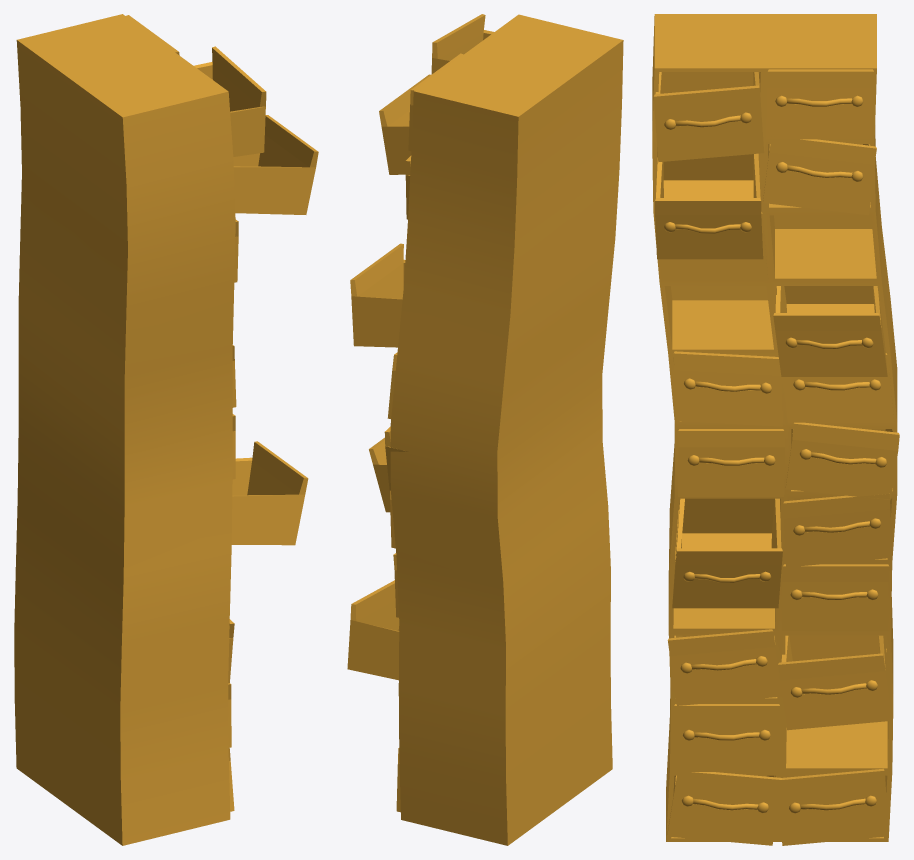
File: mueble3.fbx
3 renders of one model, left to right at view 1: azimuth 30°, elevation 25°; view 2: azimuth 150°, elevation 25°; view 3: azimuth 270°, elevation 25°, orthographic. The views are drawn at different scales.
Parts seen in each view (by area): view 1: Cube, Cube.005, Cube.010, Cube.011; view 2: Cube, Cube.019, Cube.014, Cube.010, Cube.011, Cube.005; view 3: Cube, Cube.005, Cube.010, Cube.014, Cube.019, Cube.011, Cube.022, Cube.007, Cube.021, Cube.003, Cube.001, Cube.017 (+7 smaller).
Boxes of the visible parts, x1,y1,x2,y2 form: Cube: [14, 14, 235, 845]; Cube.005: [231, 441, 308, 545]; Cube.010: [233, 115, 318, 214]; Cube.011: [194, 46, 266, 156]; Cube: [390, 14, 623, 845]; Cube.019: [350, 243, 405, 347]; Cube.014: [347, 580, 399, 680]; Cube.010: [379, 74, 430, 174]; Cube.011: [431, 14, 493, 74]; Cube.005: [369, 437, 390, 512]; Cube: [652, 14, 897, 841]; Cube.005: [672, 498, 782, 608]; Cube.010: [655, 153, 763, 259]; Cube.014: [778, 635, 892, 730]; Cube.019: [773, 286, 887, 376]; Cube.011: [653, 72, 764, 162]; Cube.022: [765, 69, 873, 139]; Cube.007: [673, 351, 782, 426]; Cube.021: [763, 136, 876, 215]; Cube.003: [667, 629, 782, 705]; Cube.001: [667, 771, 782, 845]; Cube.017: [785, 422, 899, 500].
Bounding box in the file's own units: 1224 × 4318 × 1256.
